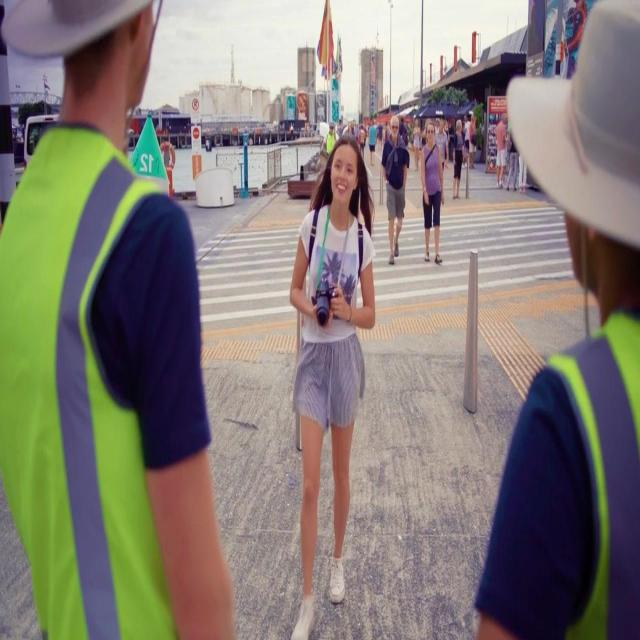Reflective-Jacket: (1, 125, 210, 638), (539, 308, 640, 640)
